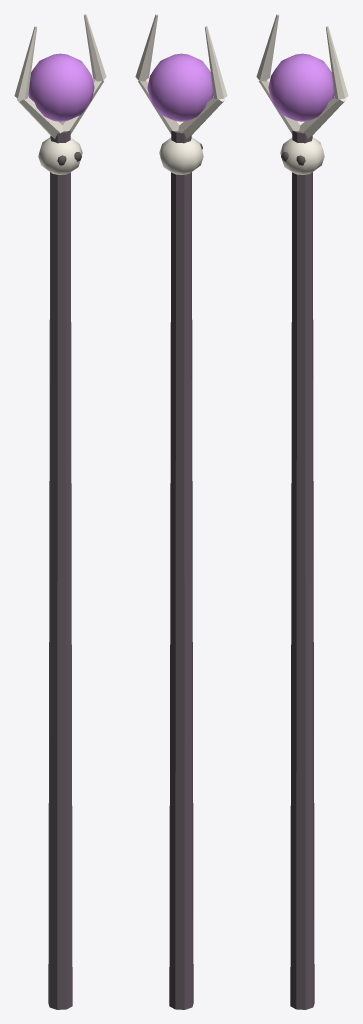
Rendered from Staff_Warlock.gltf.
3 views of the same model, side by side, from view 1: azimuth 30°, elevation 25°; view 2: azimuth 150°, elevation 25°; view 3: azimuth 330°, elevation 25° (orthographic).
Parts seen in each view (by area): view 1: Staff_Warlock; view 2: Staff_Warlock; view 3: Staff_Warlock.
Part boxes in pixels (left/top/right/bottom): Staff_Warlock: left=14, top=14, right=106, bottom=1009; Staff_Warlock: left=135, top=14, right=227, bottom=1009; Staff_Warlock: left=256, top=14, right=348, bottom=1009.
Bounding box in the file's own units: 0.1803 × 1.91 × 0.12.
